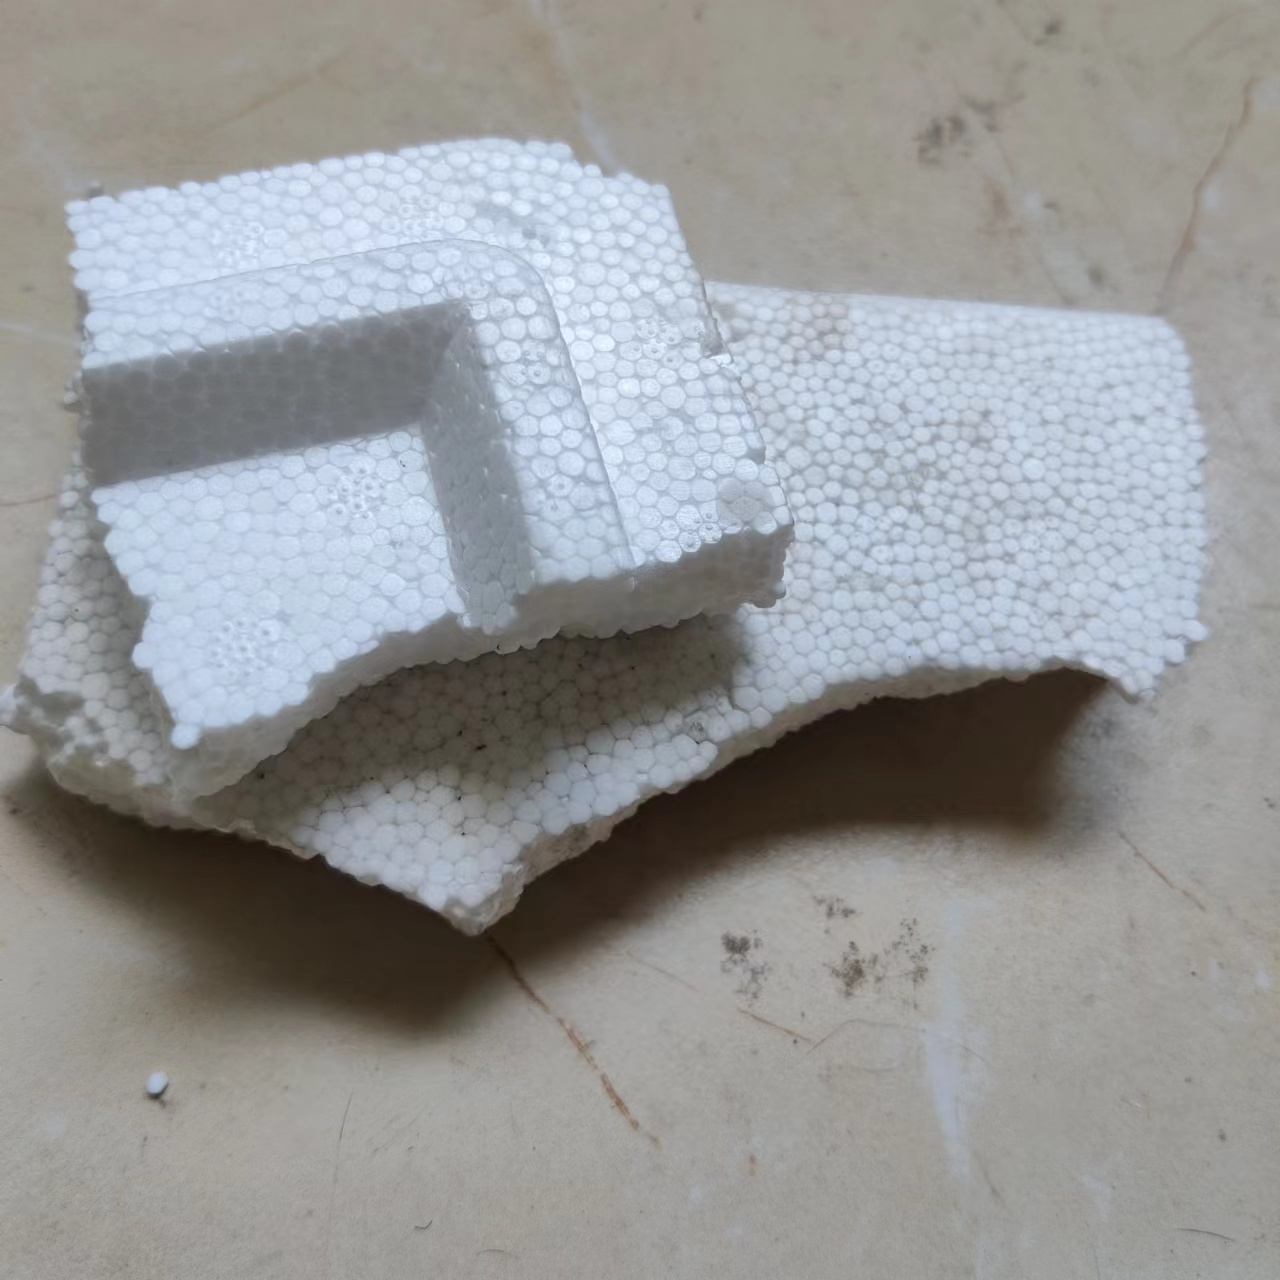5/可回收垃圾/泡沫: (1, 279, 1208, 937), (61, 135, 794, 810)
